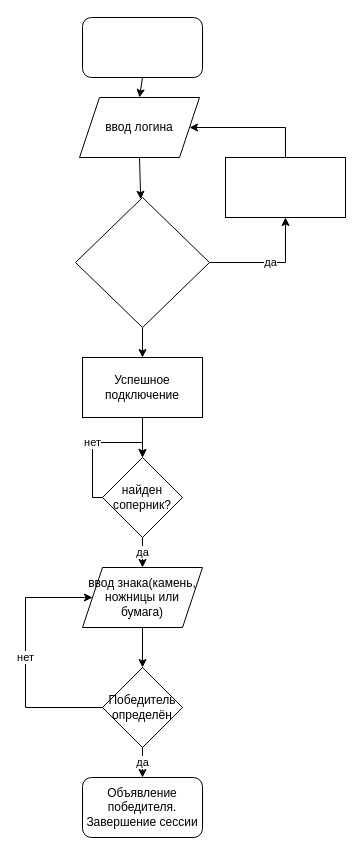
Image size: 363x855. Some labels were removed from this diagram. The shapes that lost their labels are listed below. From the top down, each one's centre as x and y in pixels, then its label:
At (142,47): "Подключение к telnet, начало сессии".
At (285,187): "ошибка".
At (142,262): "Присутствует авторизованный игрок с таким же ником?".
